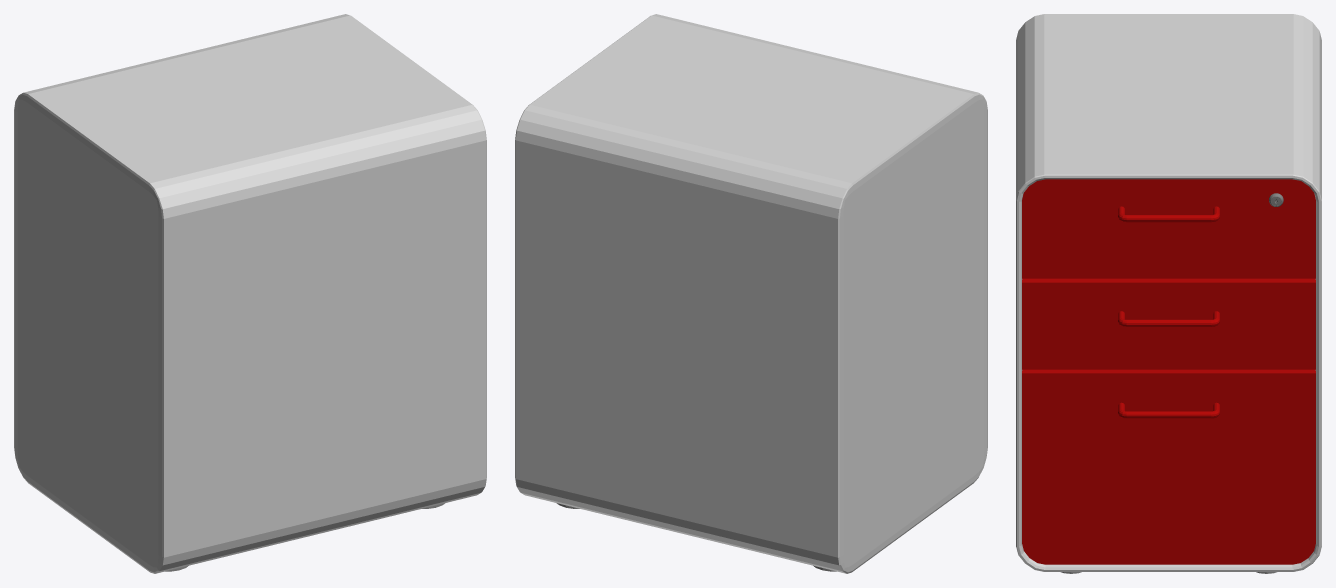
The model's file is cabinet.glb.
3 views of the same model, side by side, from view 1: azimuth 30°, elevation 25°; view 2: azimuth 150°, elevation 25°; view 3: azimuth 270°, elevation 25° (orthographic). The views are drawn at different scales.
Parts seen in each view (by area): view 1: filing_cabinet; view 2: filing_cabinet; view 3: filing_cabinet.
Boxes of the visible parts, left/top/right/bottom form: filing_cabinet: left=14, top=14, right=486, bottom=573; filing_cabinet: left=515, top=14, right=987, bottom=573; filing_cabinet: left=1016, top=14, right=1321, bottom=573.
Size of the model in its own units: 0.4831 by 0.5405 by 0.368.
